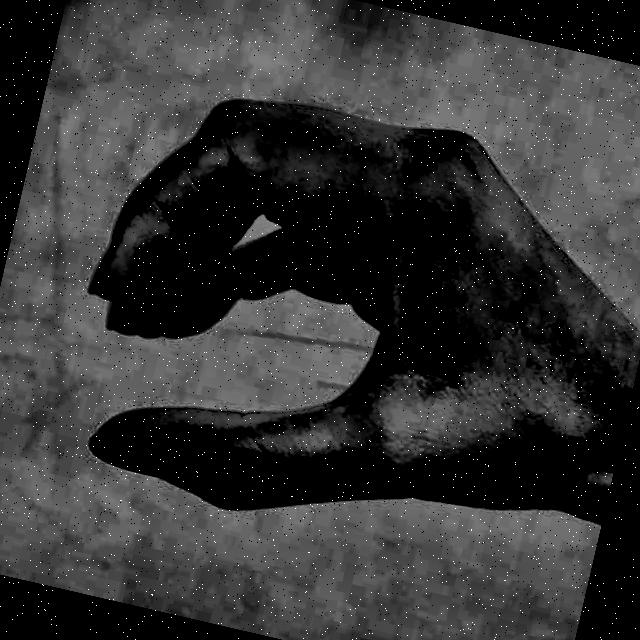Ka: (18, 18, 640, 637)
